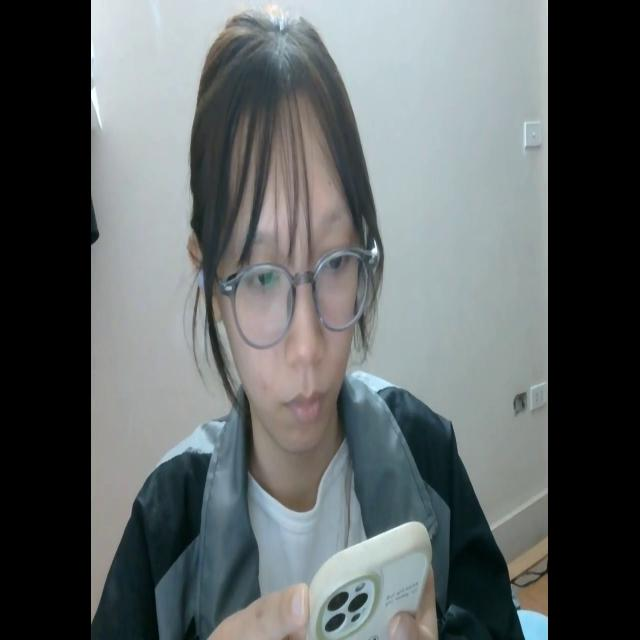phone: (302, 508, 432, 640)
student: (102, 7, 519, 640)
